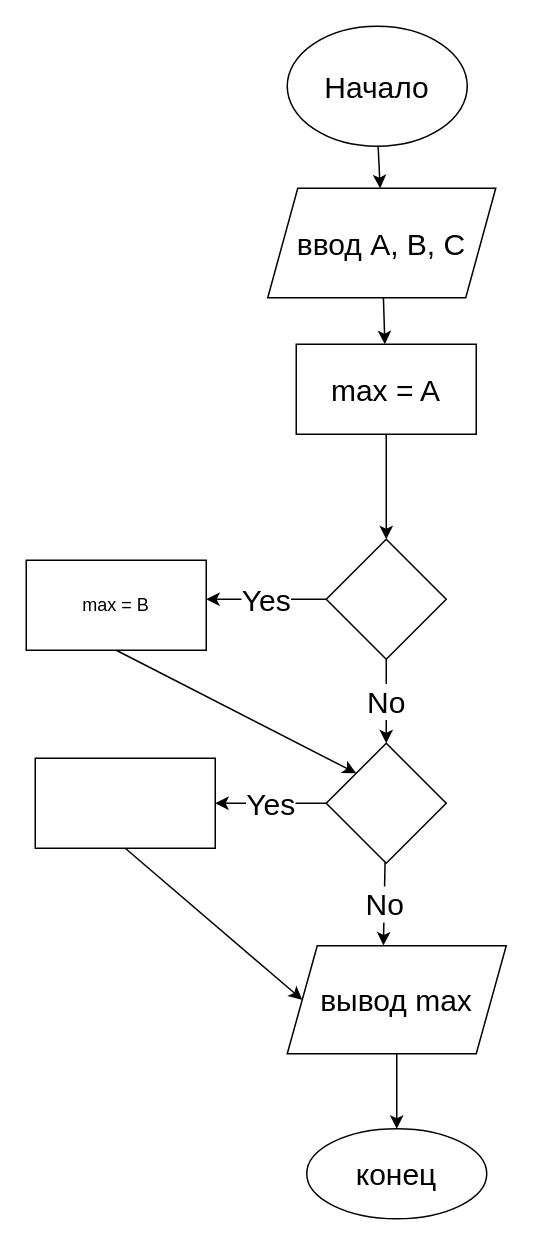
Some shapes in this 533 by 1245 pixel diagram are drawn without their labels. Each missing label, with the centre of its shape:
B>max: the point at 385,598
C>max: the point at 385,802
max = C: the point at 124,802
